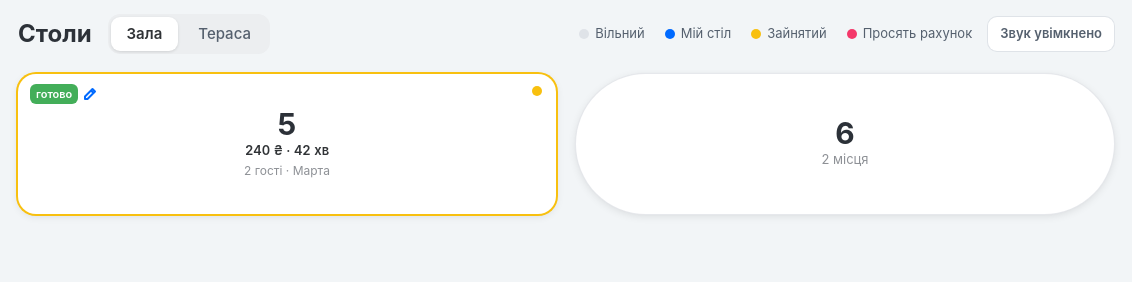
Test: HallMapPage › shows the refusal from the server instead of swallowing it
Step 1. Click the button with test id "table-tile-12" → (845, 144), box 576,74 -> 1114,214
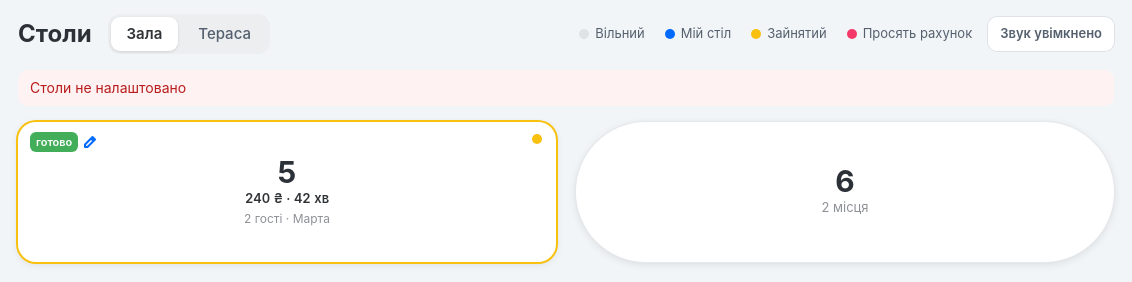
Expected: the text with test id "tables-banner" reads "Столи не налаштовано", 30,79 -> 186,96
